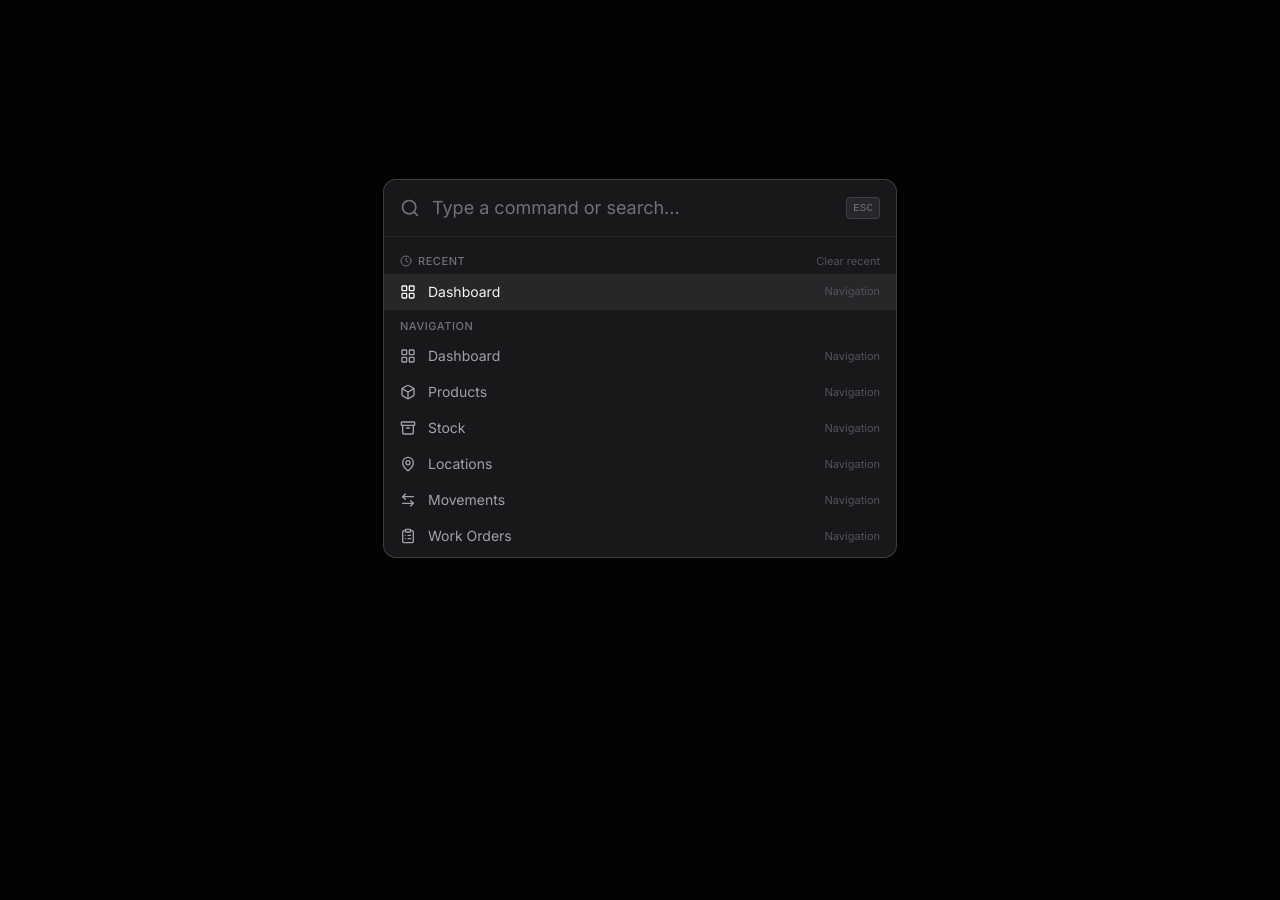
Scenario: CommandPalette › recent commands › does not show recent section when query is entered
The width and height of the screenshot is (1280, 900).
Type "stock" into the field with test id "command-palette-input" at (633, 208), box [432,180,834,236]
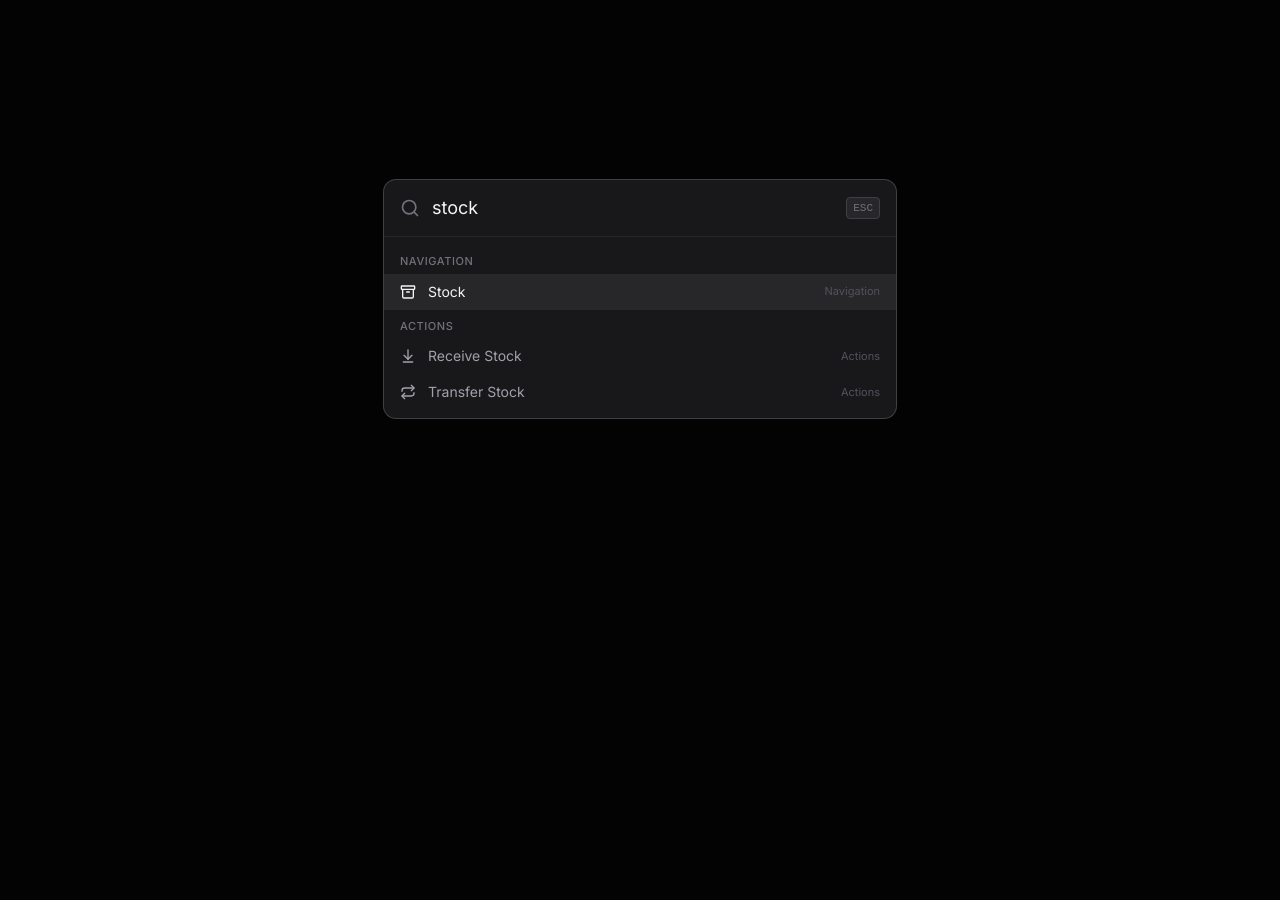
Check: the element with test id "recent-commands-section" is gone
